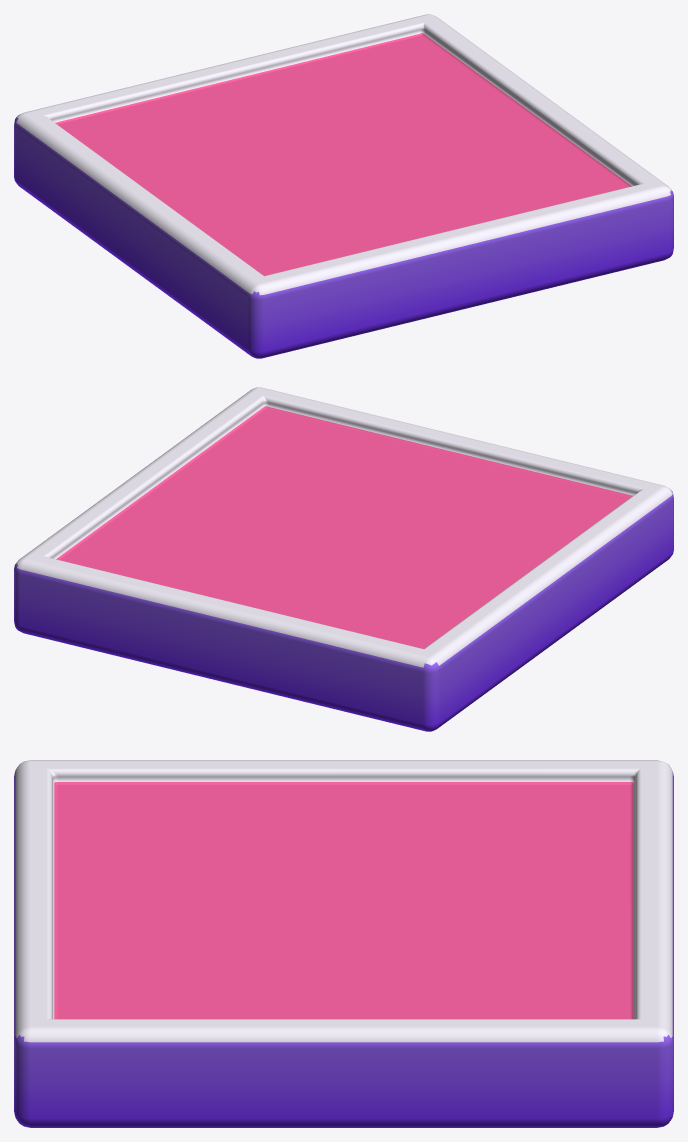
File: platform_6x6.glb
3 views of the same model, one above another, from view 1: azimuth 30°, elevation 25°; view 2: azimuth 150°, elevation 25°; view 3: azimuth 270°, elevation 25° (orthographic). The views are drawn at different scales.
Parts seen in each view (by area): view 1: platform_6x6; view 2: platform_6x6; view 3: platform_6x6.
Part boxes in pixels (x1=…): platform_6x6: x1=14, y1=14, x2=673, y2=358; platform_6x6: x1=14, y1=387, x2=673, y2=731; platform_6x6: x1=14, y1=760, x2=673, y2=1127.
Size of the model in its own units: 6 by 1 by 6.
1 material, 1 textured.
